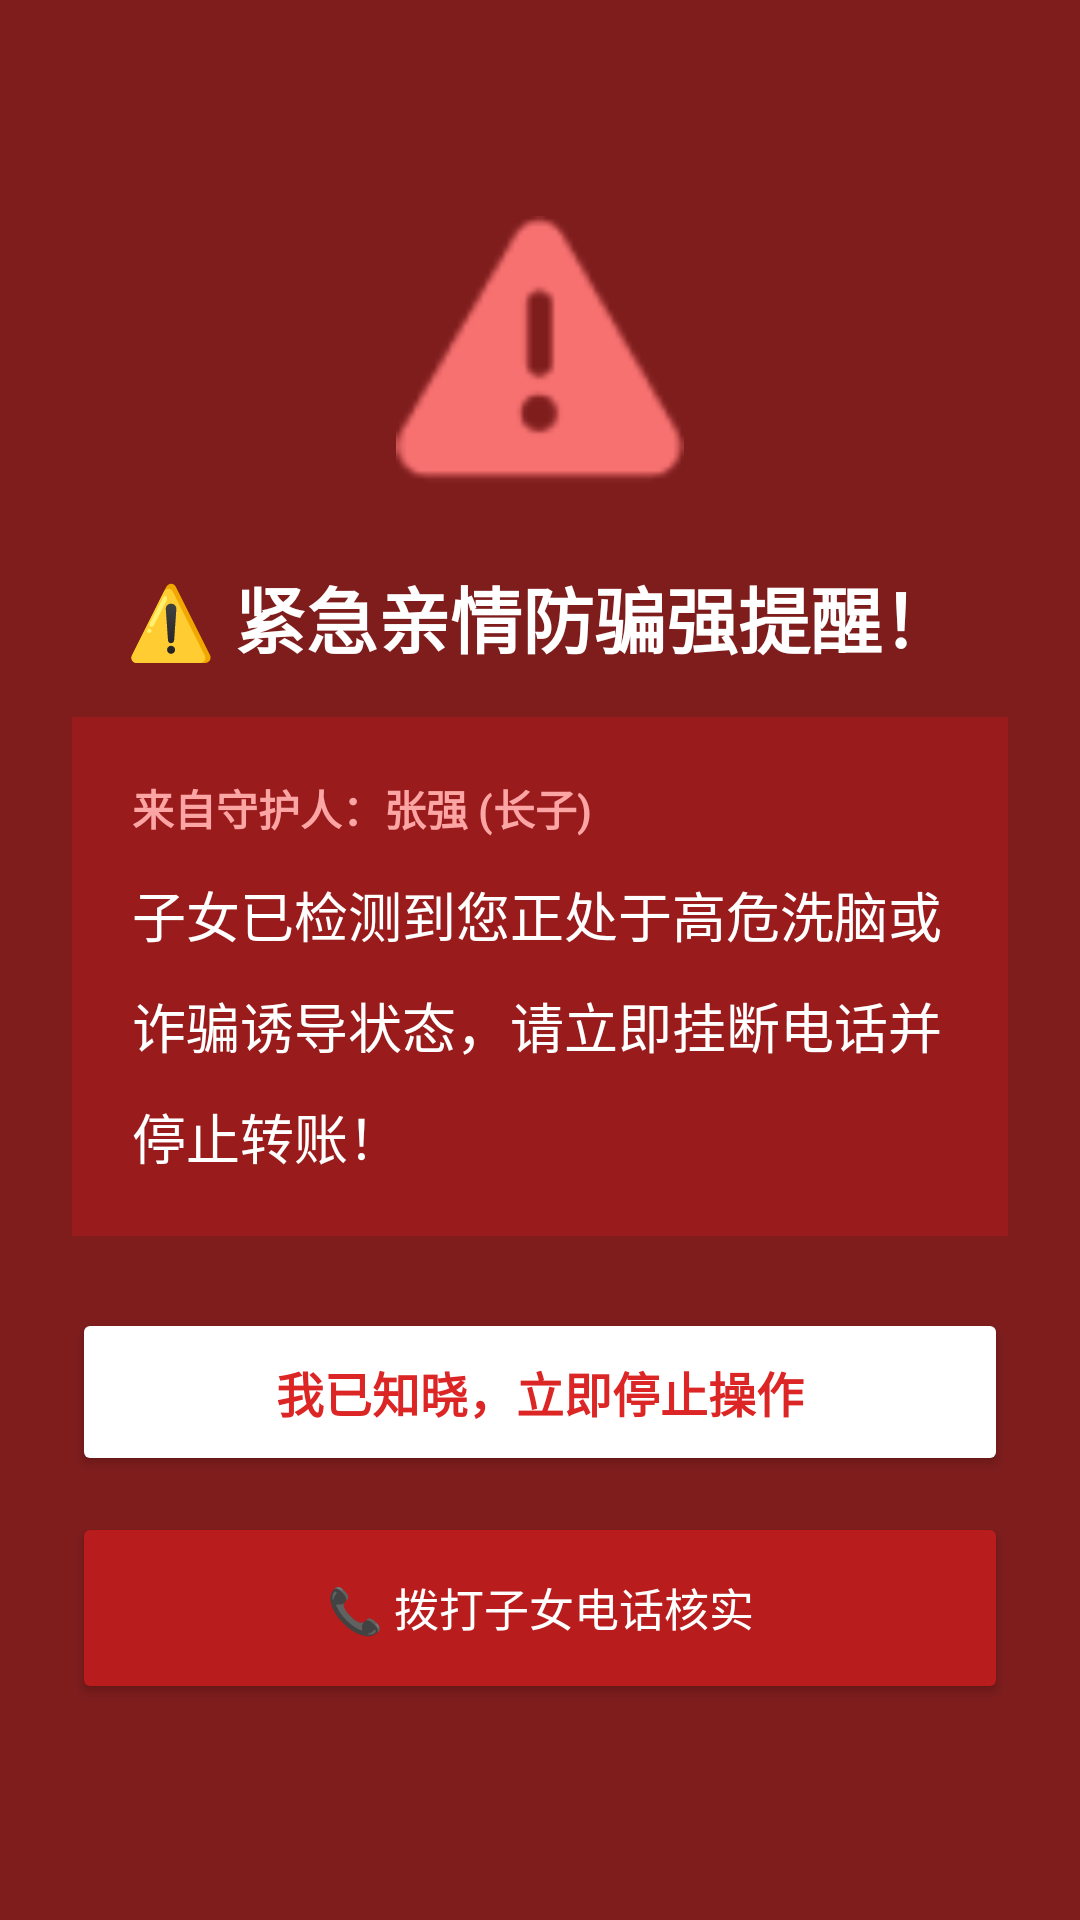

Icon bounding boxes for this 1080 x 1920 phone screenshot, format rect(x1, y1, x2, y2):
alert: rect(396, 219, 684, 478)
